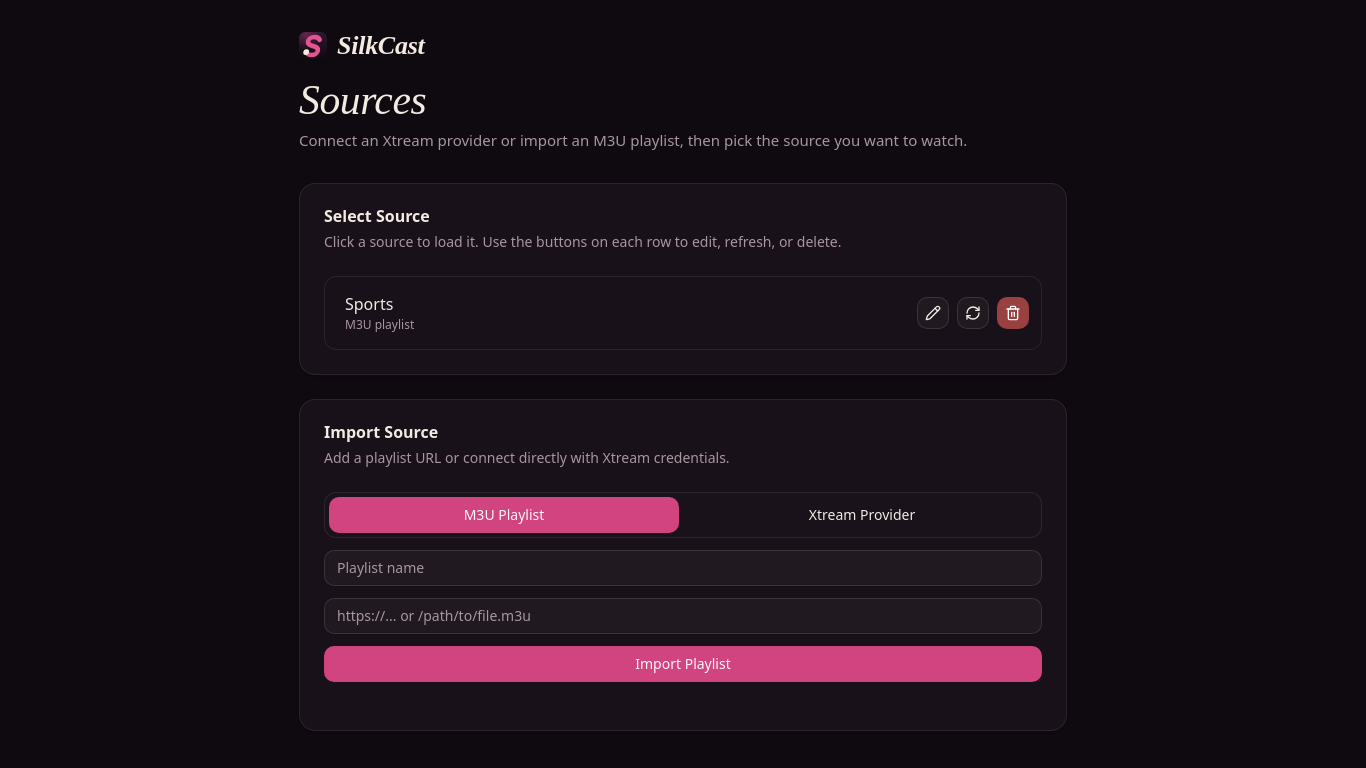
HomePage › keeps the source when deletion is cancelled
Click the button named "Delete".
click(1013, 313)  # box [997,297,1029,329]
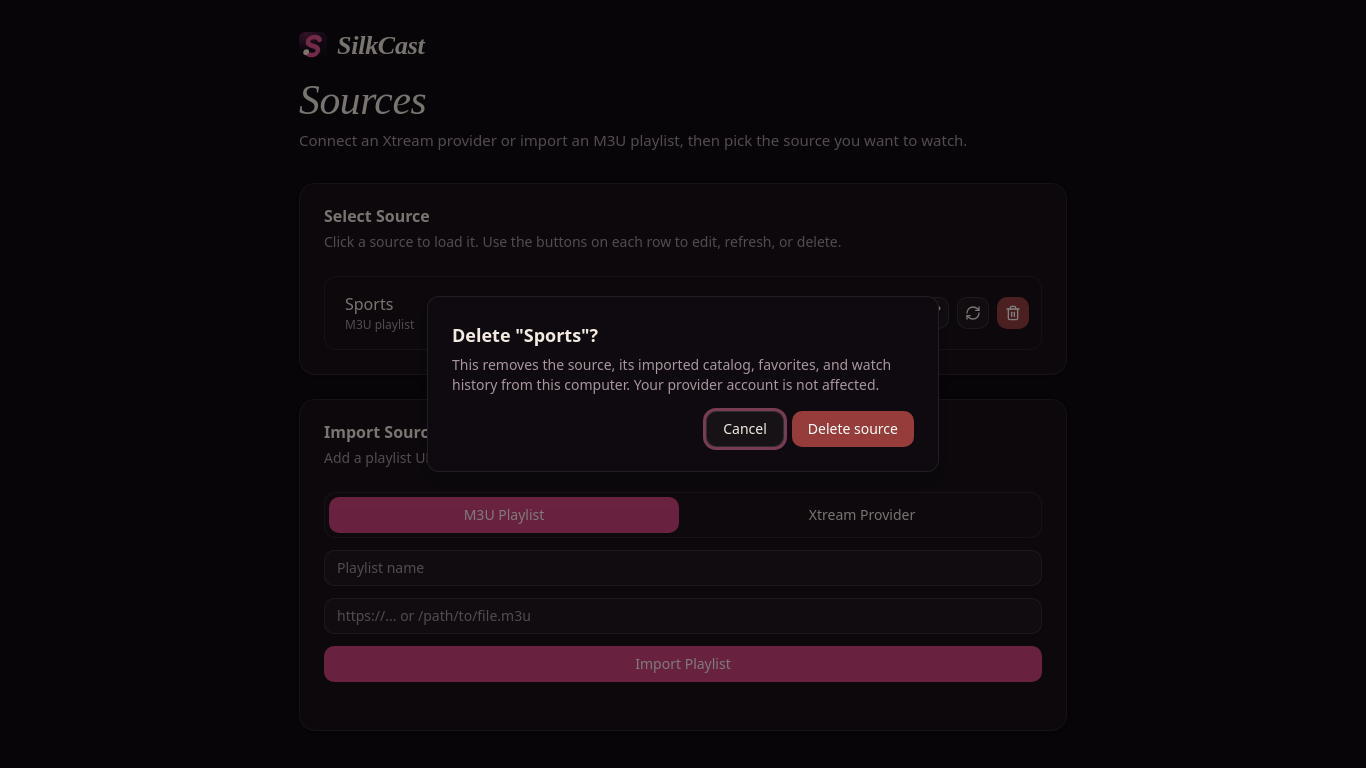
Click the button "Cancel".
click(745, 429)  # box [706,411,784,447]
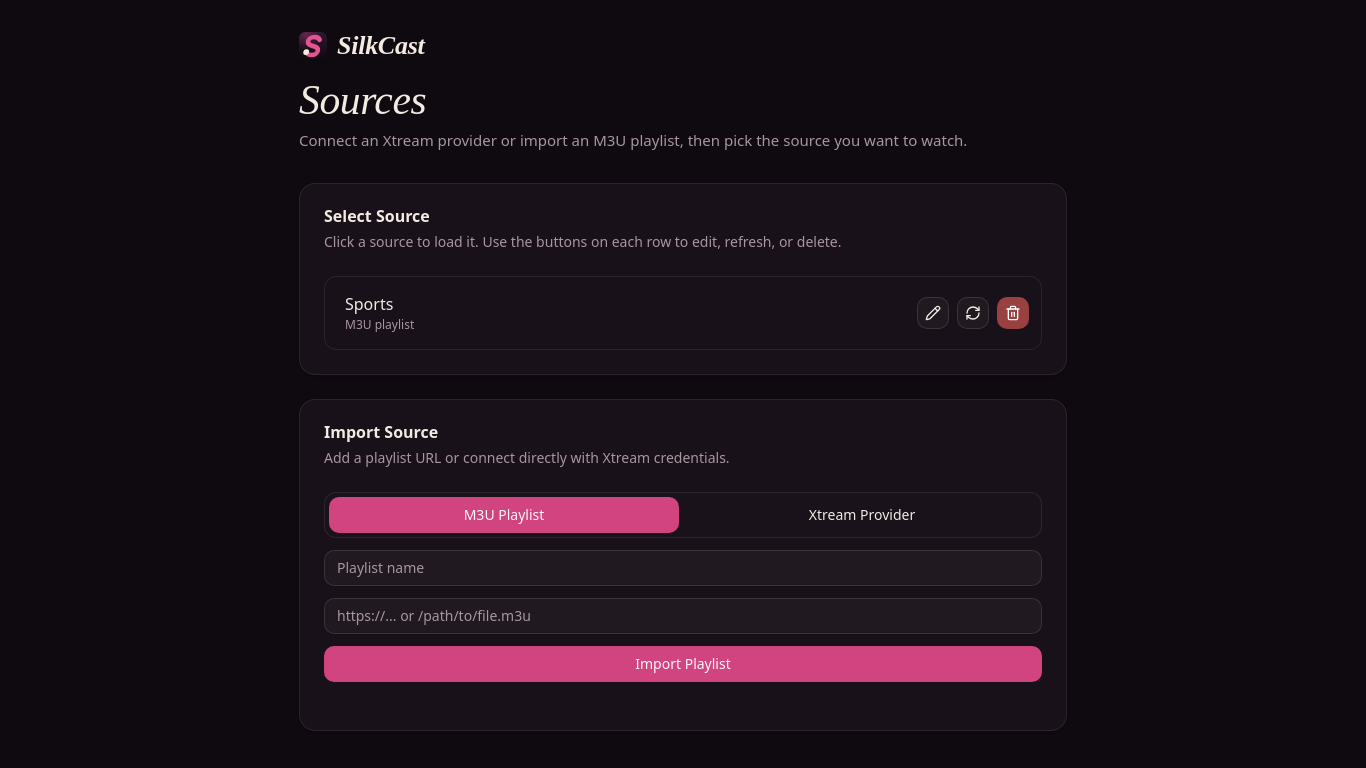
Check: the dialog is gone
